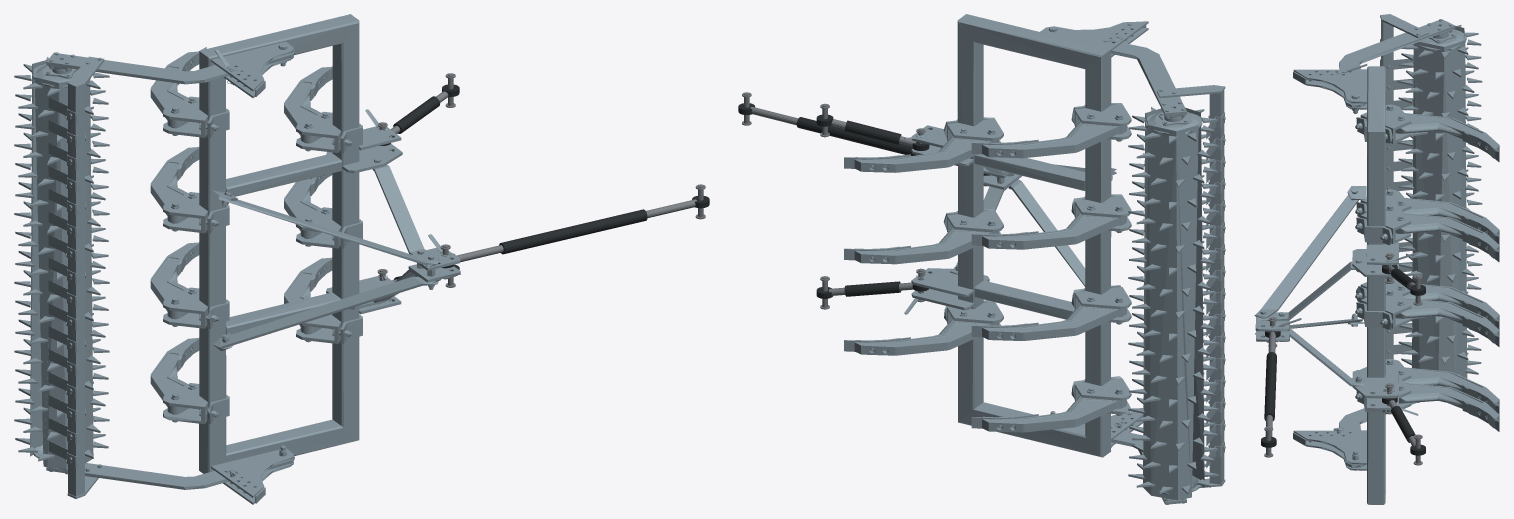
The model's file is implement_compact_chisel_plow_visual.obj.
3 renders of one model, left to right at view 1: azimuth 30°, elevation 25°; view 2: azimuth 150°, elevation 25°; view 3: azimuth 270°, elevation 25°, orthographic. The views are drawn at different scales.
Visible parts, largest first — view 1: solid_218, solid_17, solid_11, solid_215, solid_10, solid_9, solid_27, solid_214, solid_18, solid_213, hitch_top_link_sleeve, solid_22 (+13 smaller); view 2: solid_218, solid_11, solid_17, solid_10, solid_215, solid_47, solid_97, solid_147, solid_197, solid_122, solid_172, solid_72 (+20 smaller); view 3: solid_218, solid_17, solid_4, solid_214, solid_215, solid_22, solid_20, solid_47, solid_72, solid_172, solid_122, solid_10 (+30 smaller).
Part boxes in pixels (<box>): solid_218: <box>30,59,93,468</box>; solid_17: <box>332,19,359,439</box>; solid_11: <box>199,51,226,473</box>; solid_215: <box>68,85,84,496</box>; solid_10: <box>199,14,358,59</box>; solid_9: <box>200,419,358,472</box>; solid_27: <box>219,276,438,348</box>; solid_214: <box>46,50,294,84</box>; solid_18: <box>226,153,341,196</box>; solid_213: <box>46,456,294,489</box>; hitch_top_link_sleeve: <box>499,209,647,254</box>; solid_22: <box>211,448,293,497</box>; solid_218: <box>1143,107,1204,500</box>; solid_11: <box>1085,49,1111,457</box>; solid_17: <box>957,14,983,421</box>; solid_10: <box>958,14,1110,69</box>; solid_215: <box>1209,90,1224,484</box>; solid_47: <box>982,121,1126,158</box>; solid_97: <box>982,213,1126,249</box>; solid_147: <box>982,304,1126,340</box>; solid_197: <box>982,396,1126,432</box>; solid_122: <box>854,227,998,264</box>; solid_172: <box>854,319,998,355</box>; solid_72: <box>854,136,998,172</box>; solid_218: <box>1412,26,1467,385</box>; solid_17: <box>1367,132,1385,504</box>; solid_4: <box>1254,195,1358,318</box>; solid_214: <box>1339,19,1455,107</box>; solid_215: <box>1381,19,1393,359</box>; solid_22: <box>1293,430,1366,464</box>; solid_20: <box>1293,69,1366,103</box>; solid_47: <box>1395,113,1499,151</box>; solid_72: <box>1395,213,1499,251</box>; solid_172: <box>1399,382,1499,421</box>; solid_122: <box>1395,298,1499,336</box>; solid_10: <box>1367,66,1385,132</box>.
Size of the model in its own units: 3.24 by 2.26 by 1.31.
